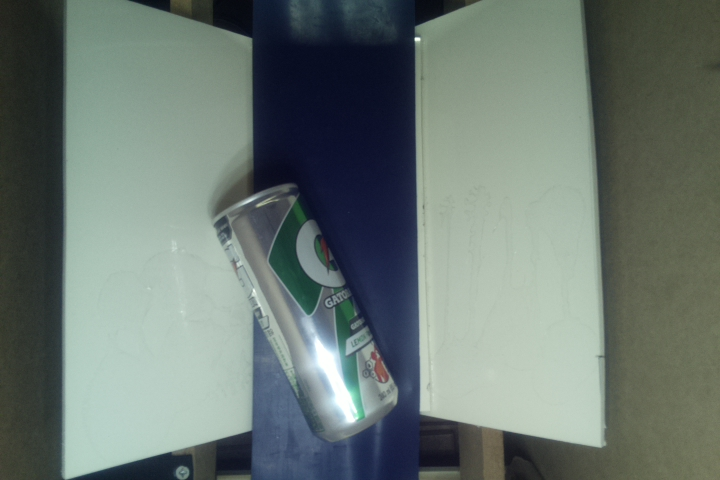can: (205, 180, 402, 447)
